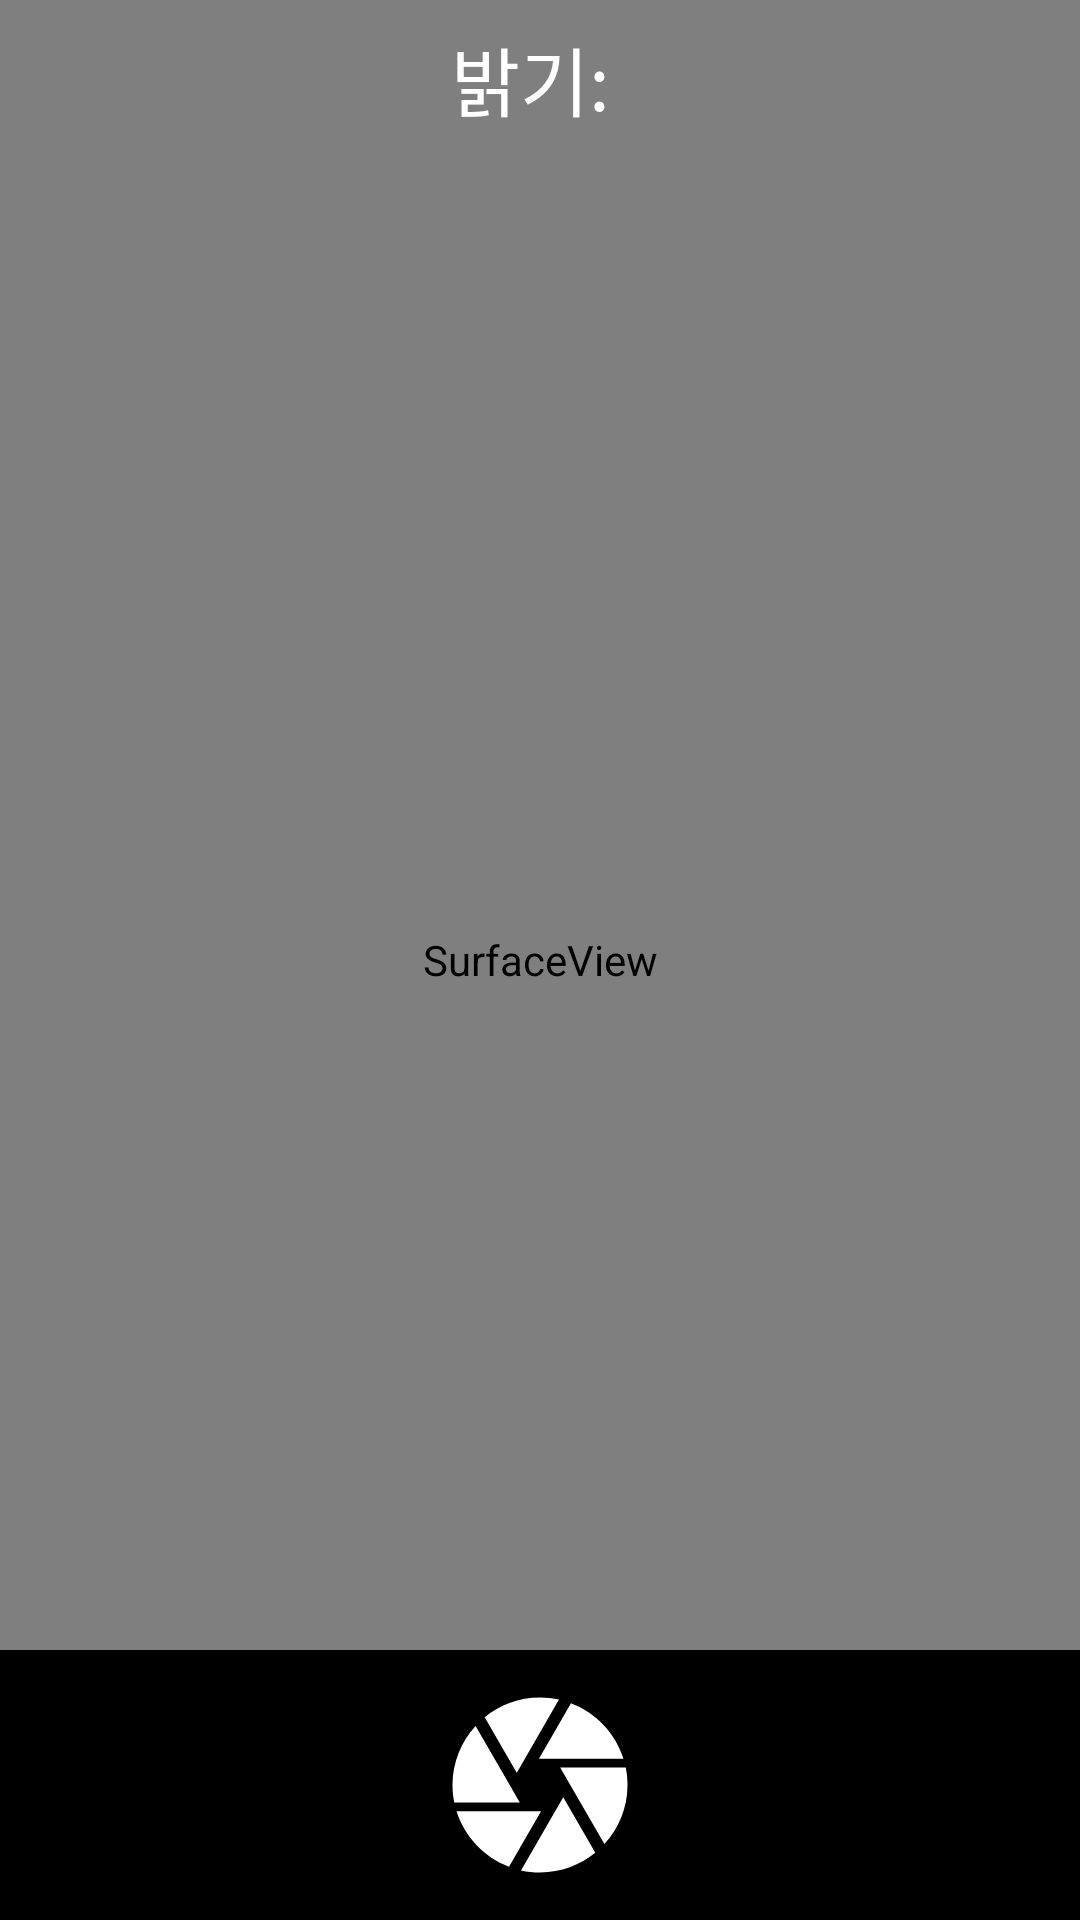

Where to tap for icons on this 1080*1920 app screen, as [x,y]:
camera: [540,1785]
